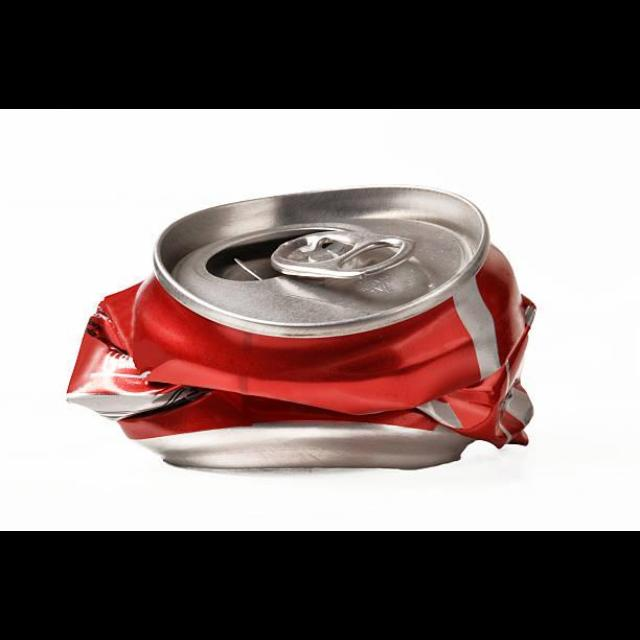aba de lata: (270, 230, 416, 282)
lata: (64, 186, 536, 474)
